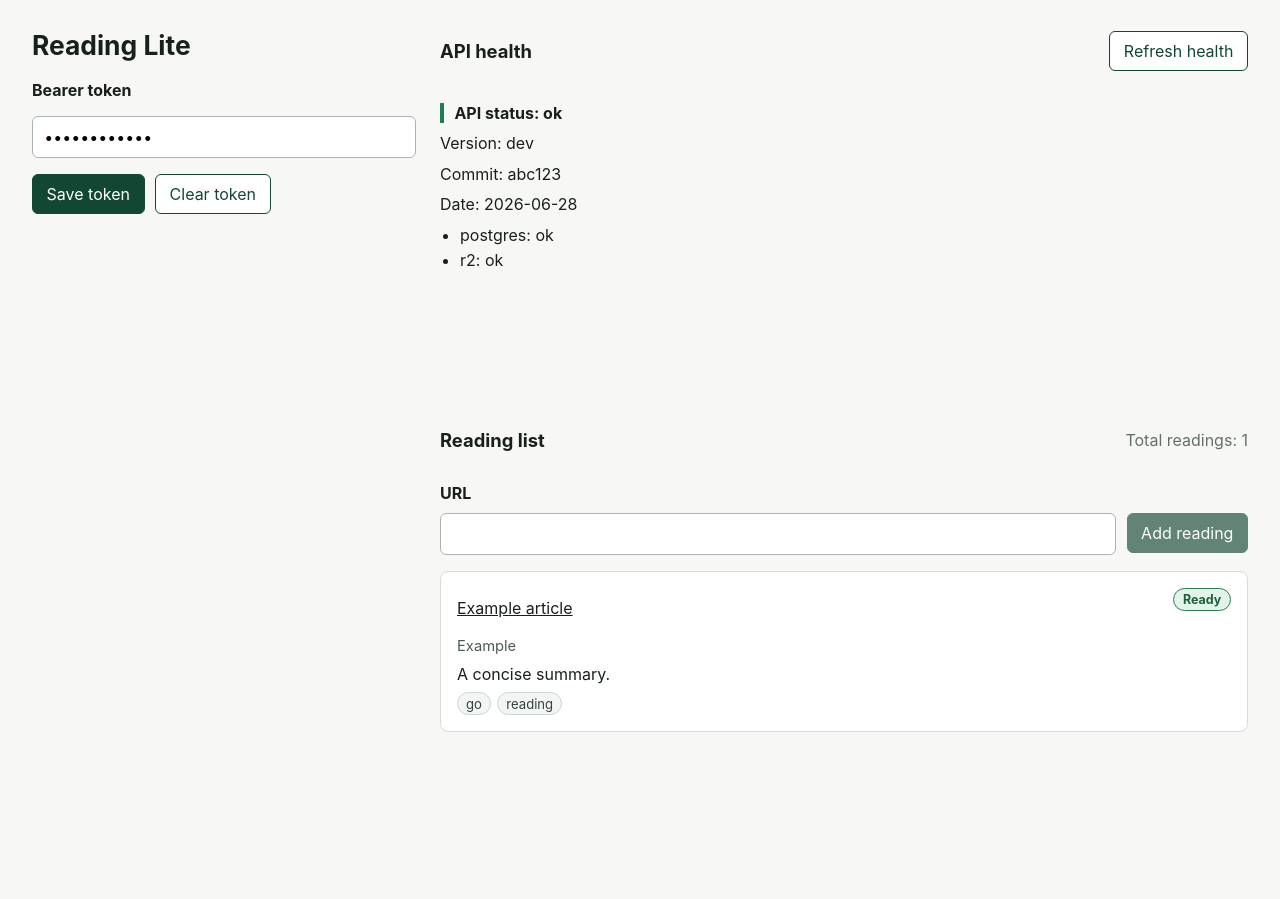
Scenario: ReadingDetail › renders summary, tags, similar readings, and diagnostics timings, then fetches markdown content for a ready reading
Click the button "Example article": (515, 608) [457,588,573,628]
(page scrolled)
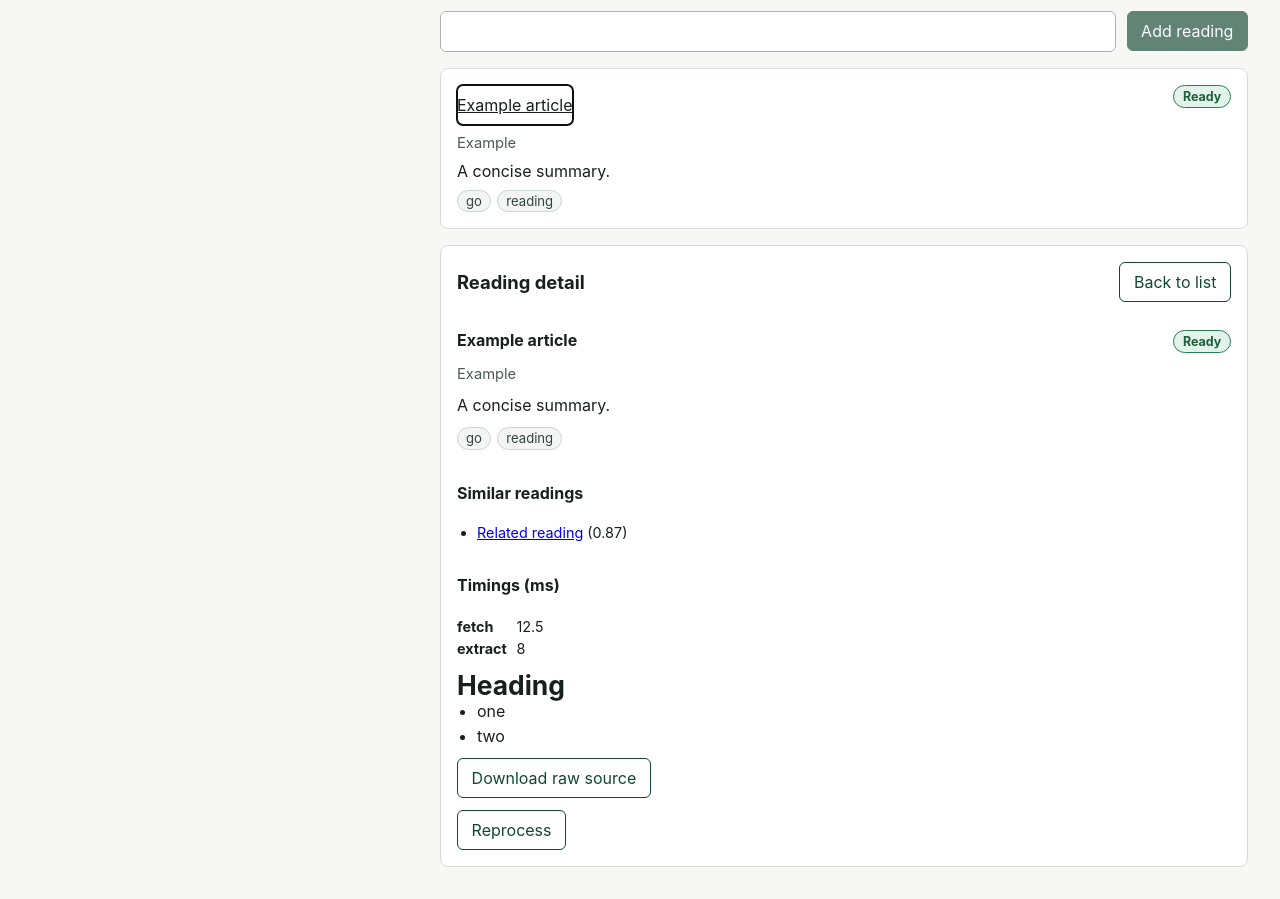
Check: the heading "Example article" is shown, box [457,330,577,351]
Check: the text "A concise summary." below "Reading detail" is shown, box [457,395,610,415]
Check: the link "Related reading" is shown, box [477,524,583,541]
